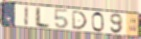0: (92, 12, 106, 33)
5: (54, 8, 70, 30)
9: (110, 13, 125, 35)
D: (72, 10, 89, 30)
I: (24, 5, 30, 27)
L: (34, 6, 52, 29)
